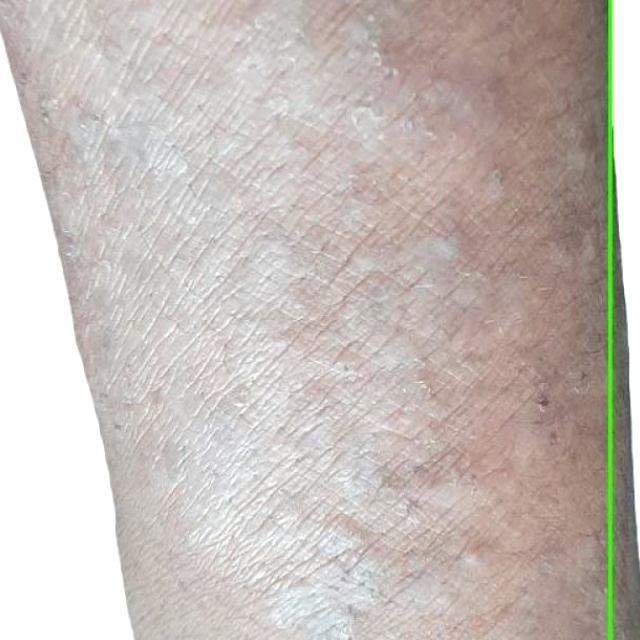Tinea Corporis: (610, 0, 639, 639)
